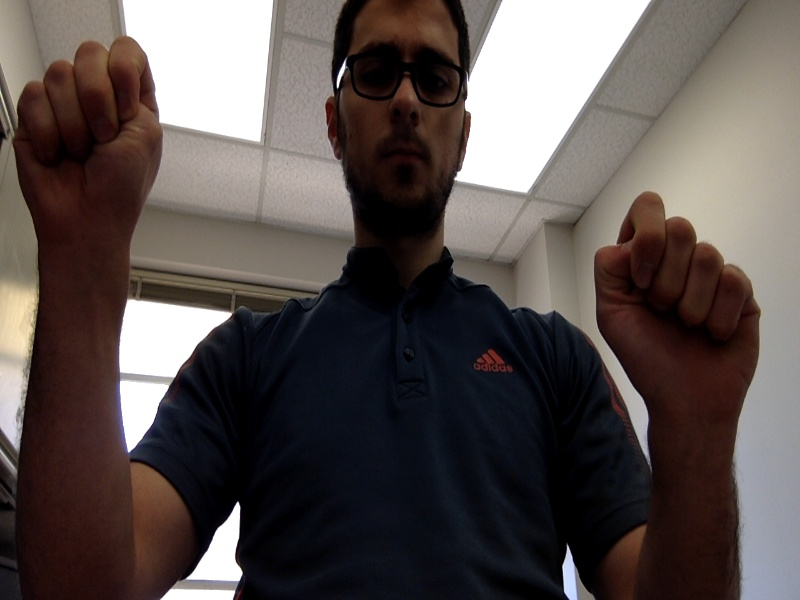0-hand: (592, 191, 759, 403), (16, 37, 161, 239)
